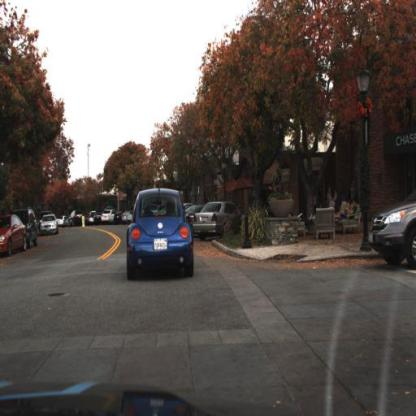car: (125, 176, 197, 282), (369, 187, 416, 270), (193, 200, 244, 240), (1, 214, 29, 254), (184, 201, 206, 237), (21, 206, 39, 246), (38, 214, 60, 236), (69, 205, 87, 230), (102, 209, 115, 225), (58, 216, 68, 229)
pedestrian: (333, 199, 358, 225), (329, 178, 338, 213), (351, 177, 358, 211), (340, 180, 348, 209)
